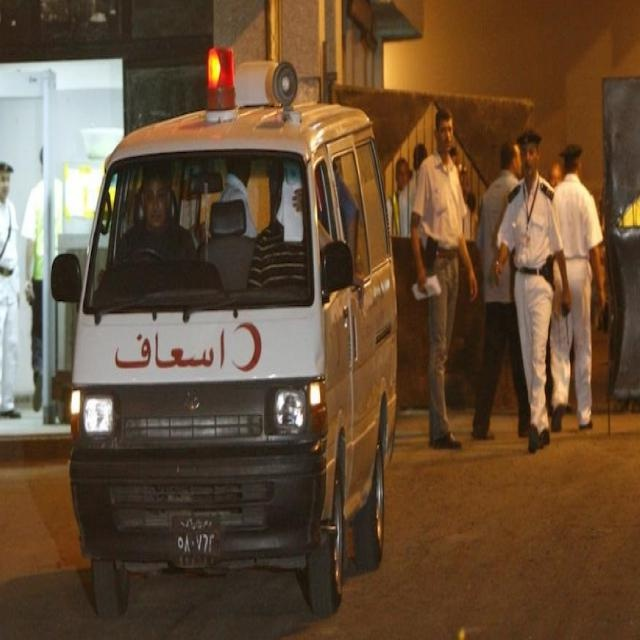Ambulance: (50, 46, 400, 620)
person: (114, 163, 204, 265), (1, 161, 21, 417)
